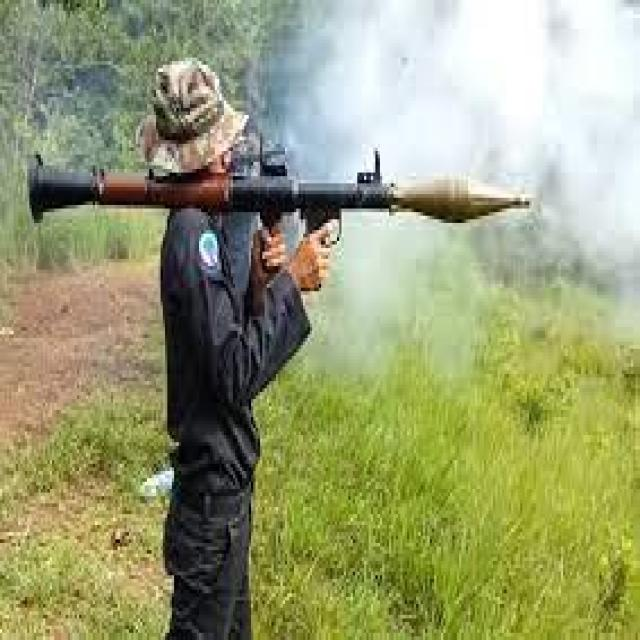bazooka: (25, 153, 538, 238)
